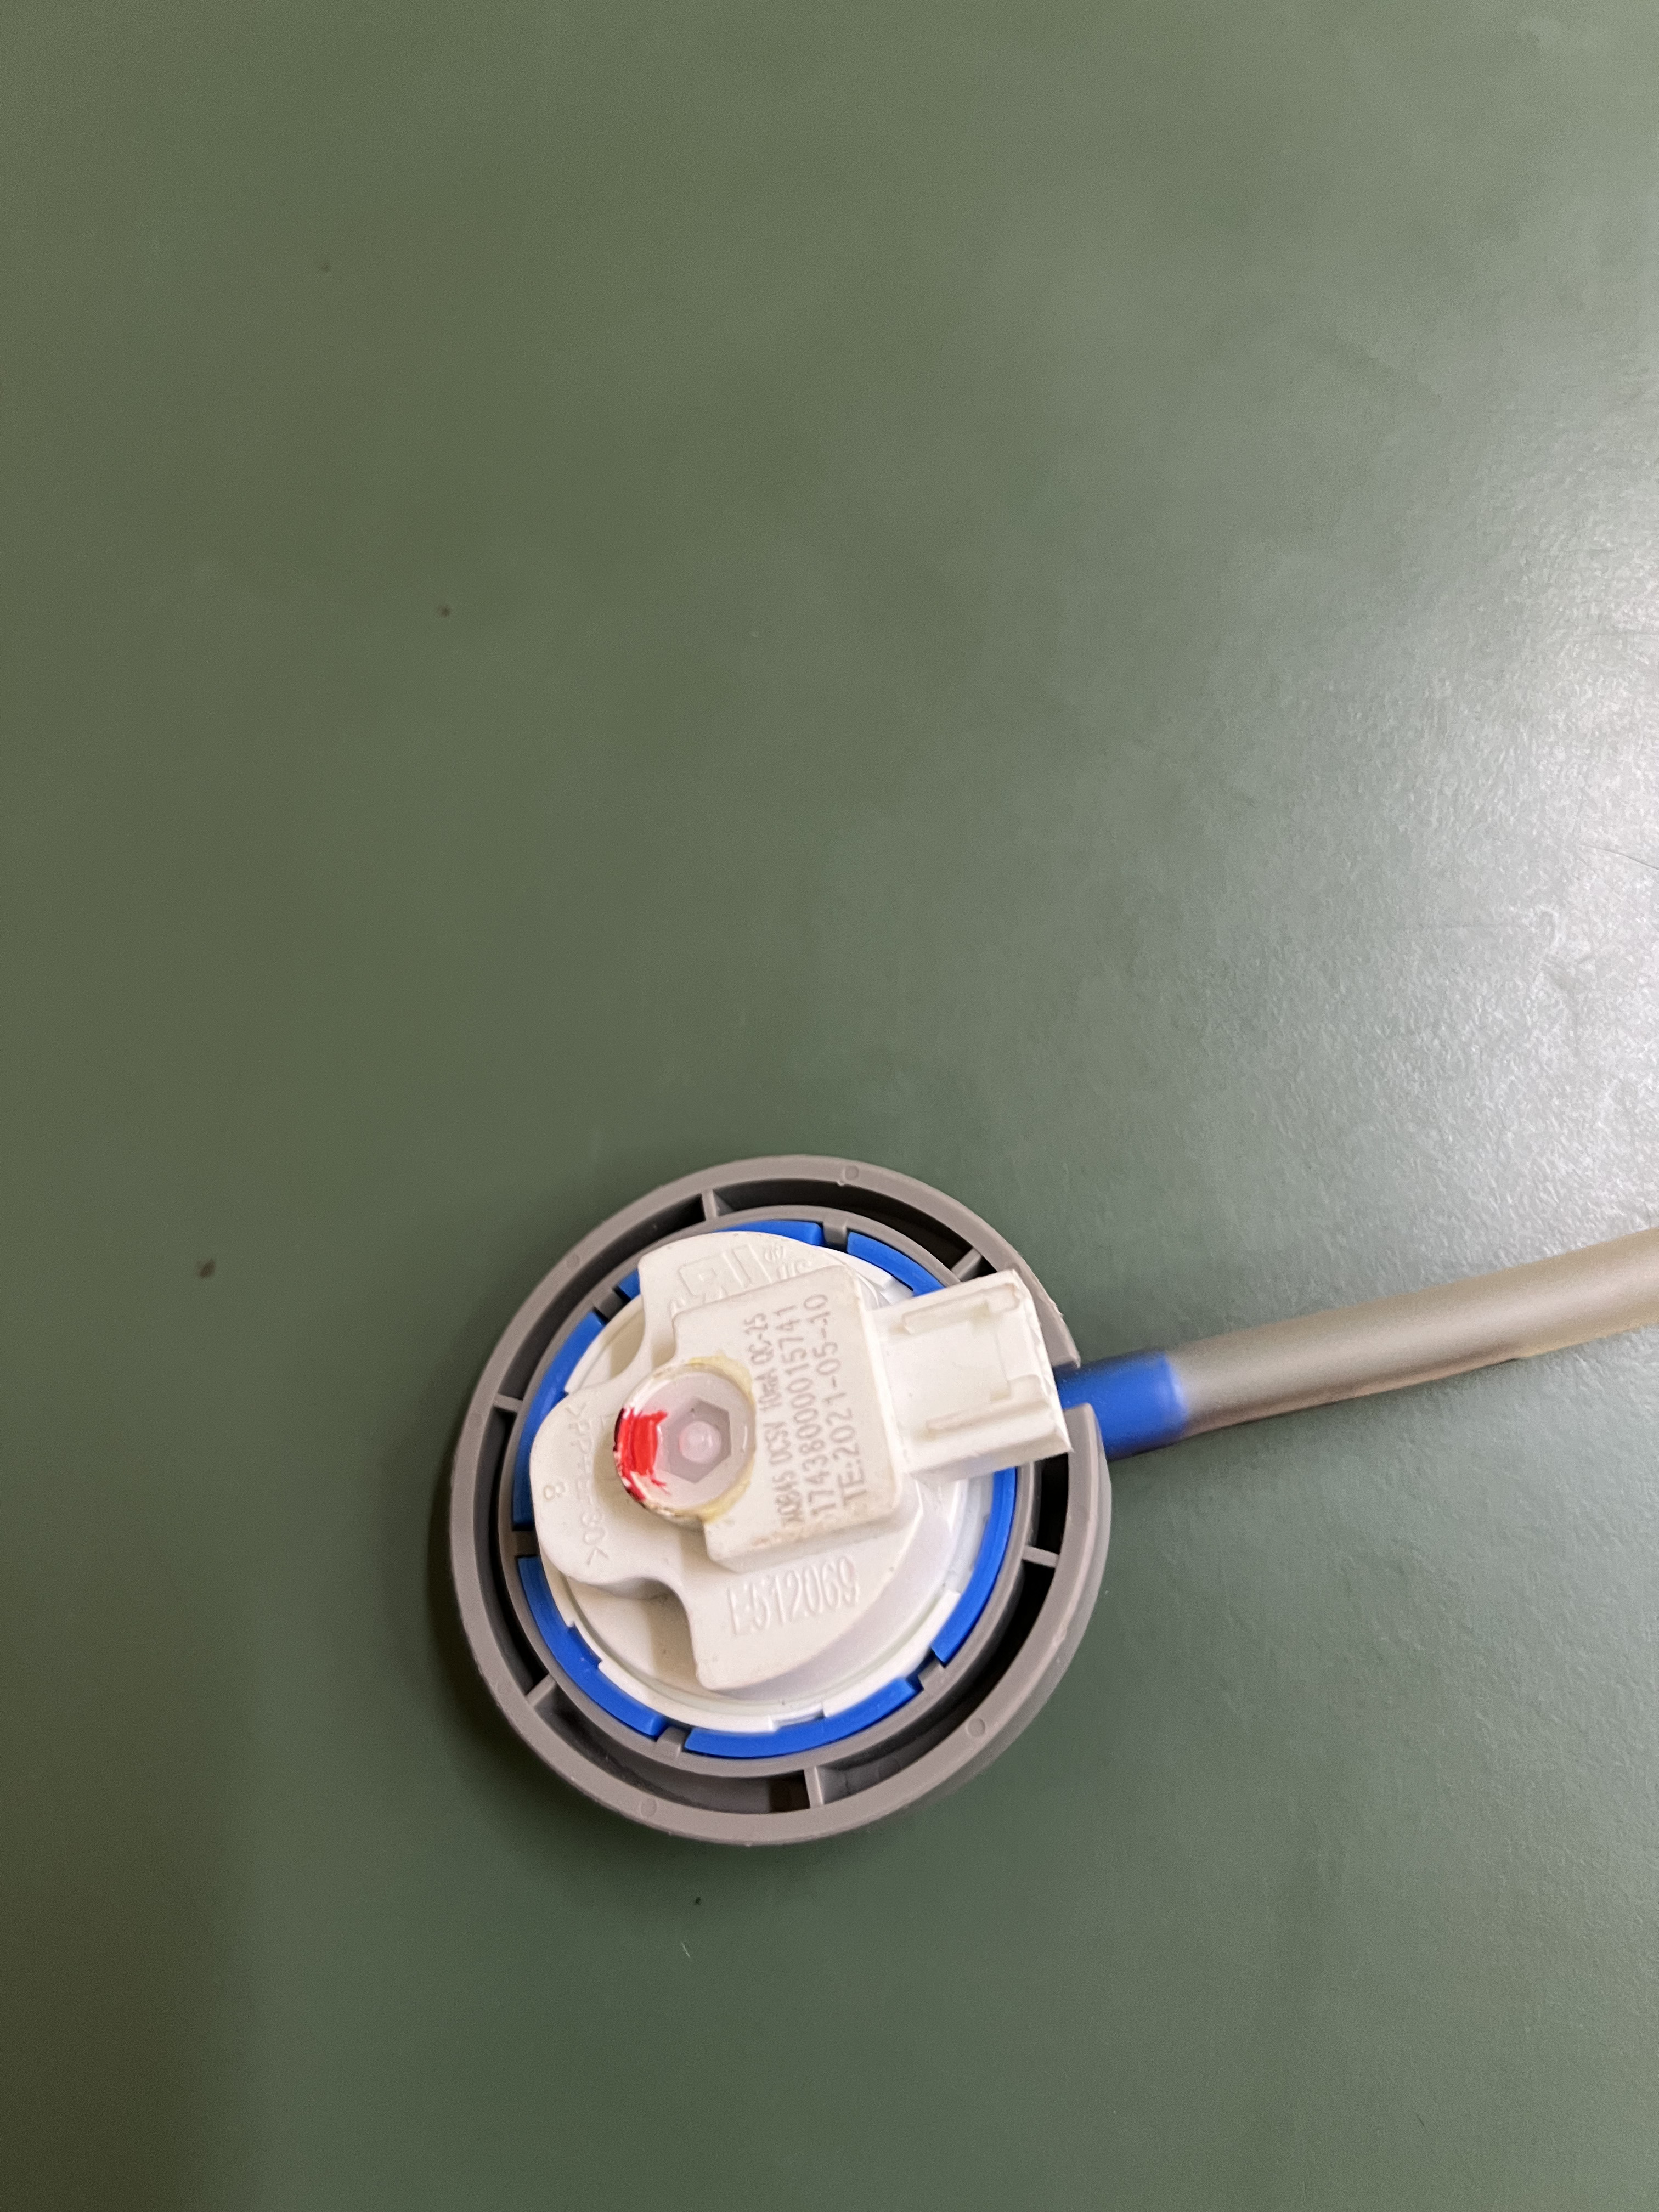pressure_sensor: (436, 1157, 1150, 1876)
